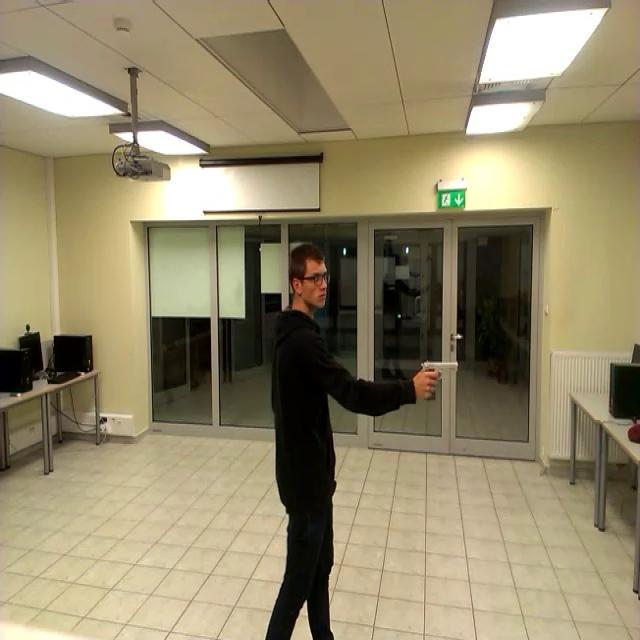Gun: (420, 349, 472, 396)
